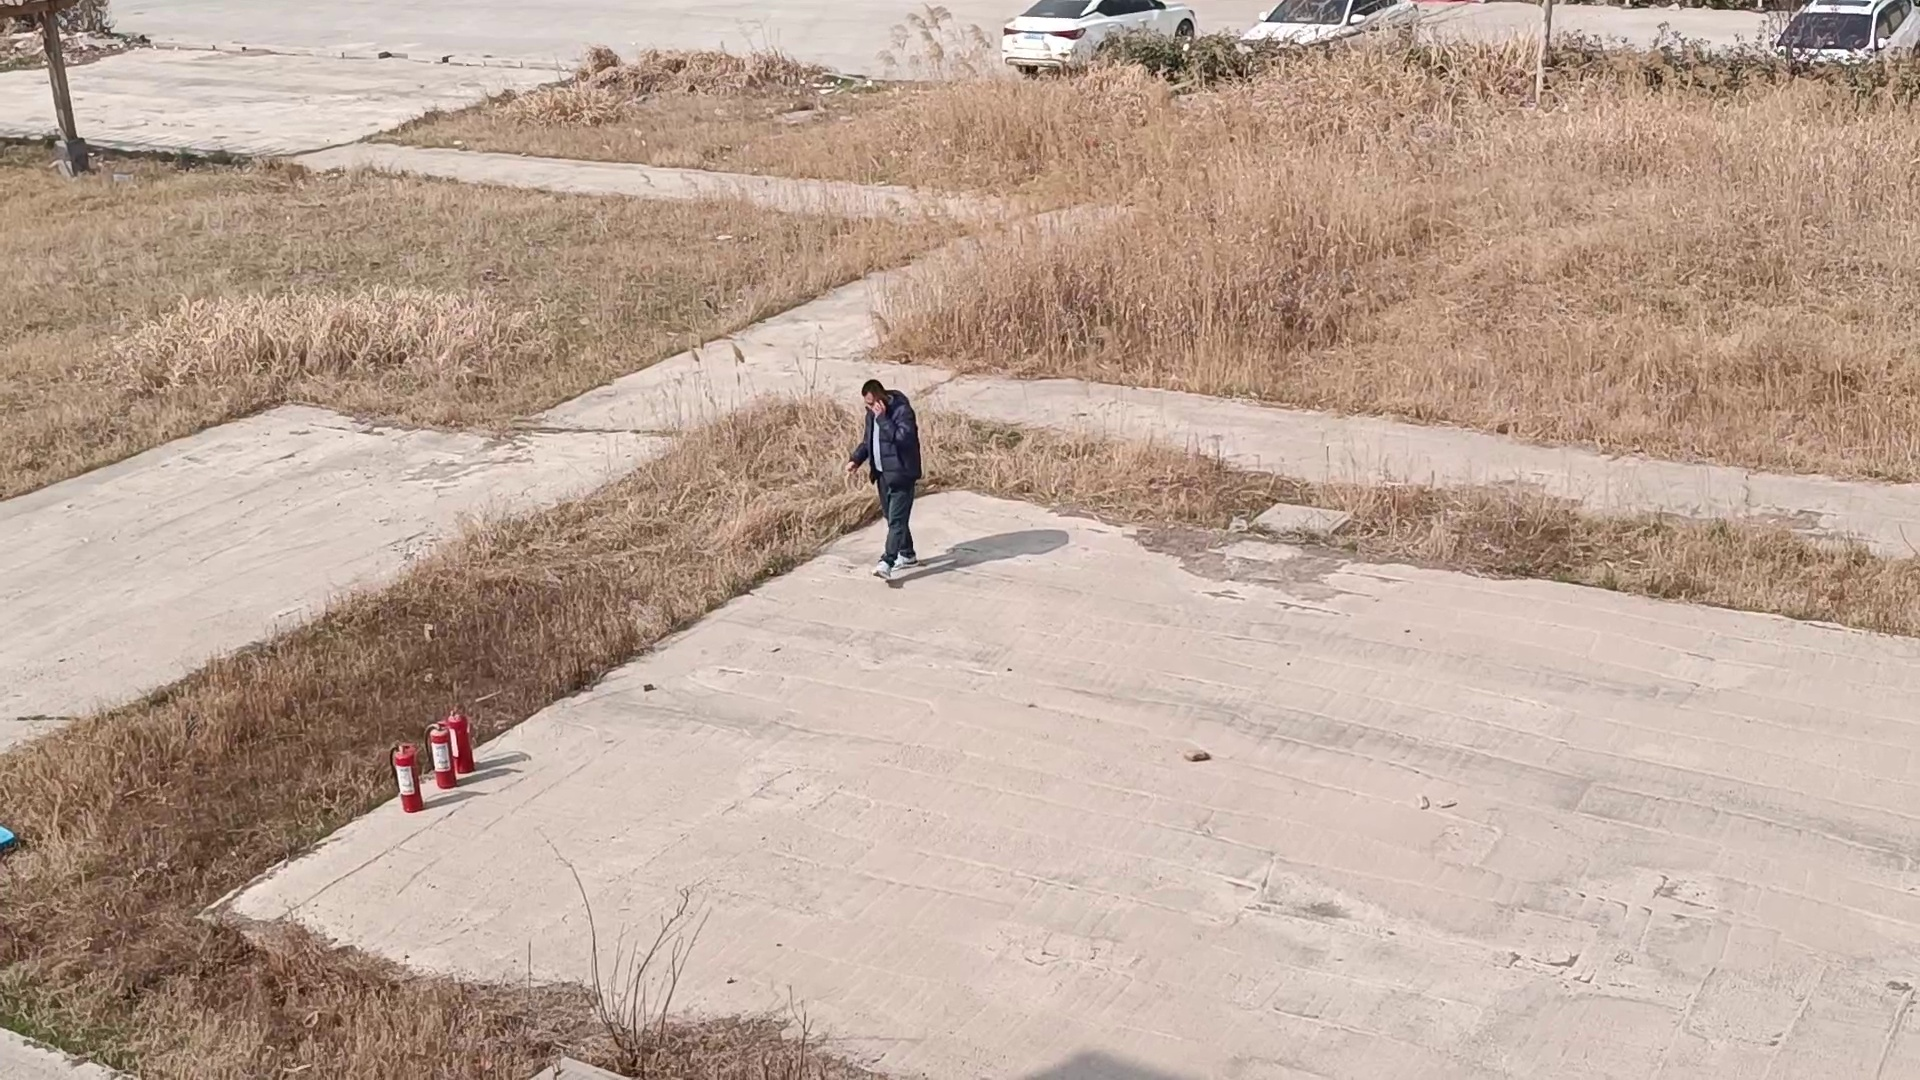phone: (855, 372, 907, 419)
